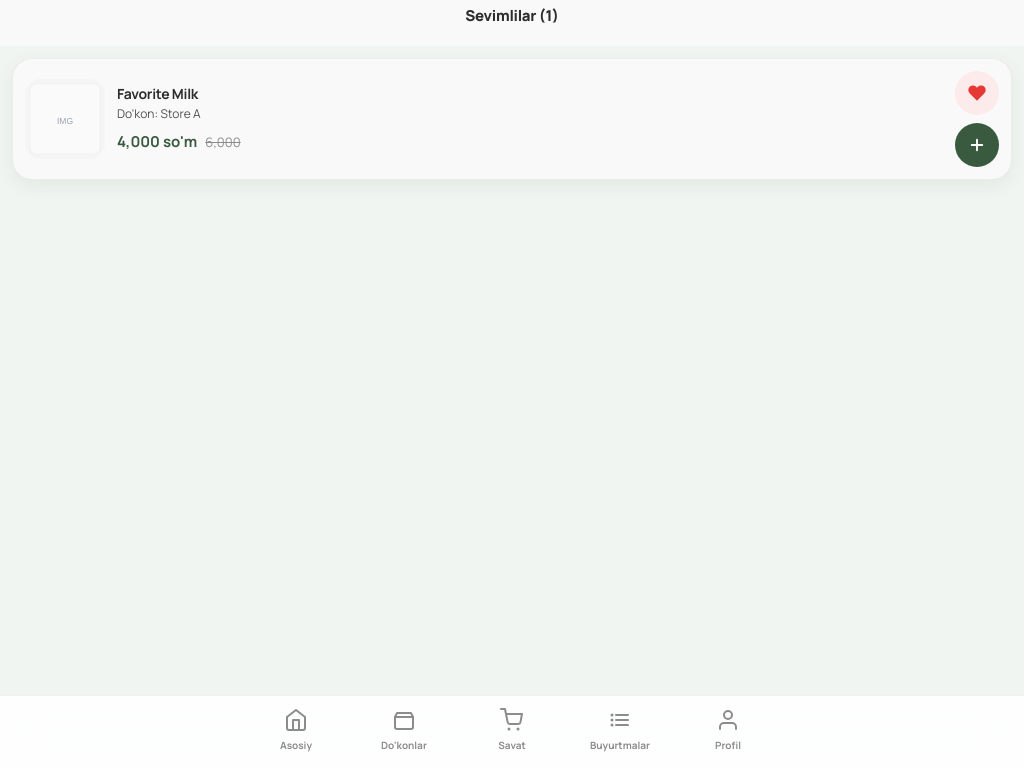
it: FavoritesPage › renders favorites and allows removal
expect the heading "Favorite Milk" is shown: met, box [117, 84, 198, 103]
Click the button named "O'chirish" at {"x": 977, "y": 93}, box [955, 71, 999, 115]
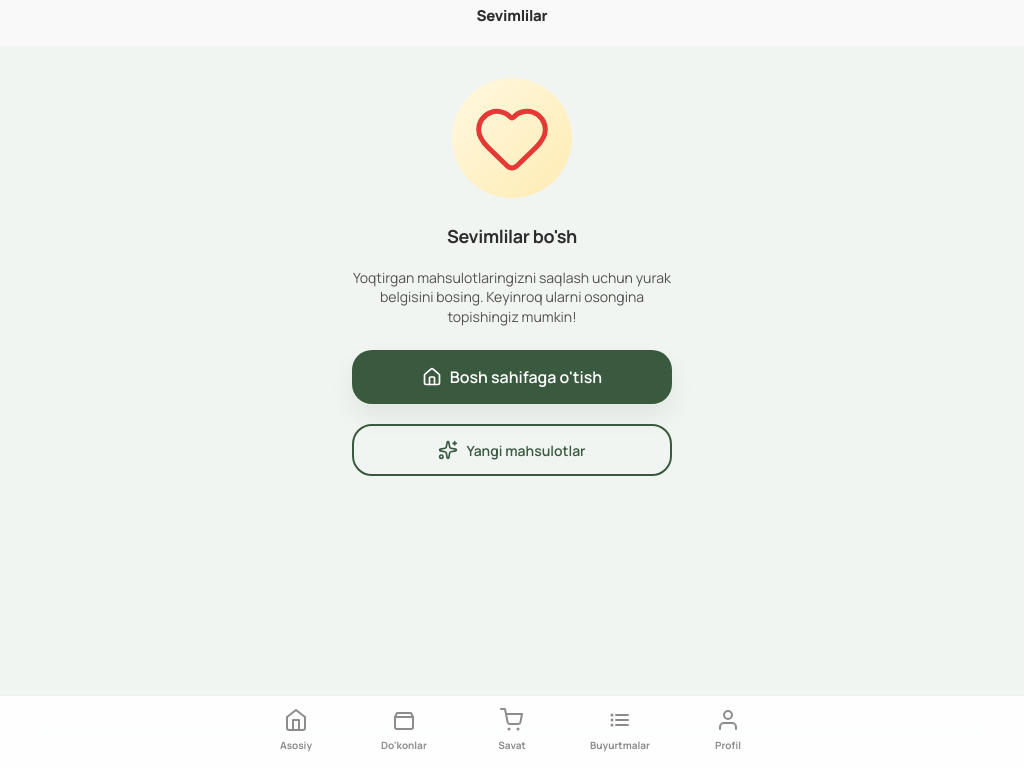
expect the heading "Sevimlilar bo'sh" is shown: met, box [447, 226, 577, 248]
